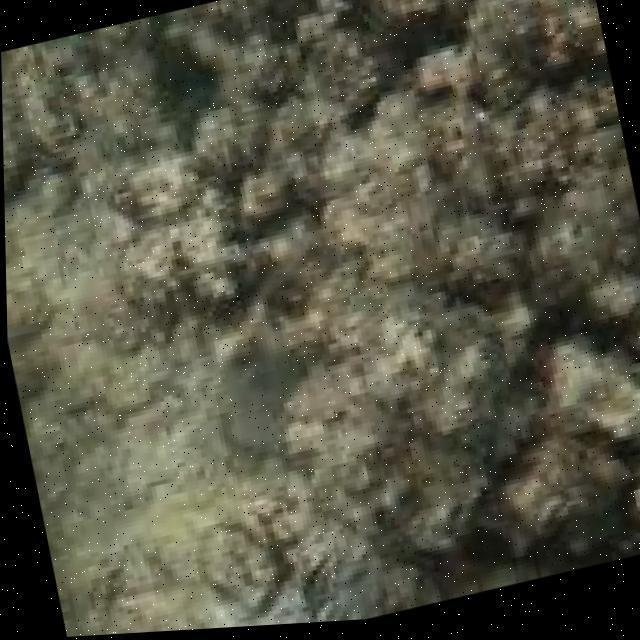Dead Coral: (158, 0, 640, 636)
